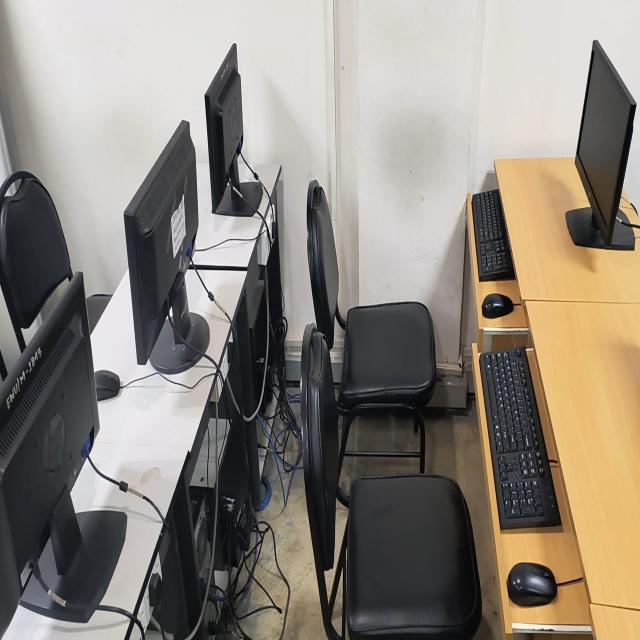Chair: (301, 324, 482, 639), (307, 181, 436, 473), (0, 171, 72, 348)
Cpu: (191, 491, 211, 583)
Keyboard: (480, 348, 561, 529), (471, 190, 515, 281)
Monitor: (0, 273, 127, 638), (124, 121, 210, 374), (566, 41, 640, 249), (205, 44, 262, 216)
Mouse: (507, 562, 557, 606), (482, 293, 514, 319), (95, 370, 121, 401)
